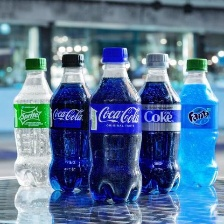bottle: (89, 44, 142, 201), (132, 49, 182, 194), (48, 51, 92, 195), (10, 53, 55, 188), (175, 55, 219, 188)
